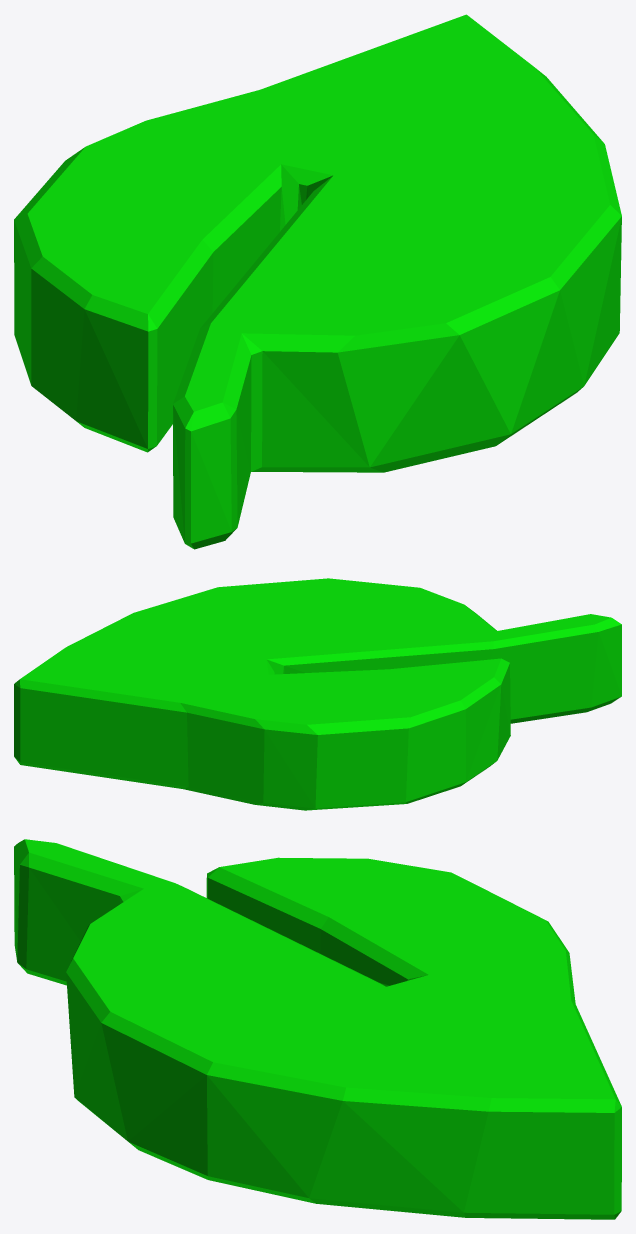
The model's file is Natur_simple_lp.fbx.
3 renders of one model, top to bottom at view 1: azimuth 30°, elevation 25°; view 2: azimuth 150°, elevation 25°; view 3: azimuth 270°, elevation 25°, orthographic. The views are drawn at different scales.
Visible parts, largest first — view 1: path281; view 2: path281; view 3: path281.
Boxes of the visible parts, x1,y1,x2,y2 form: path281: (14,14,621,549); path281: (14,578,621,810); path281: (14,839,621,1219).
Size of the model in its own units: 7.21 by 1.5 by 6.86.
